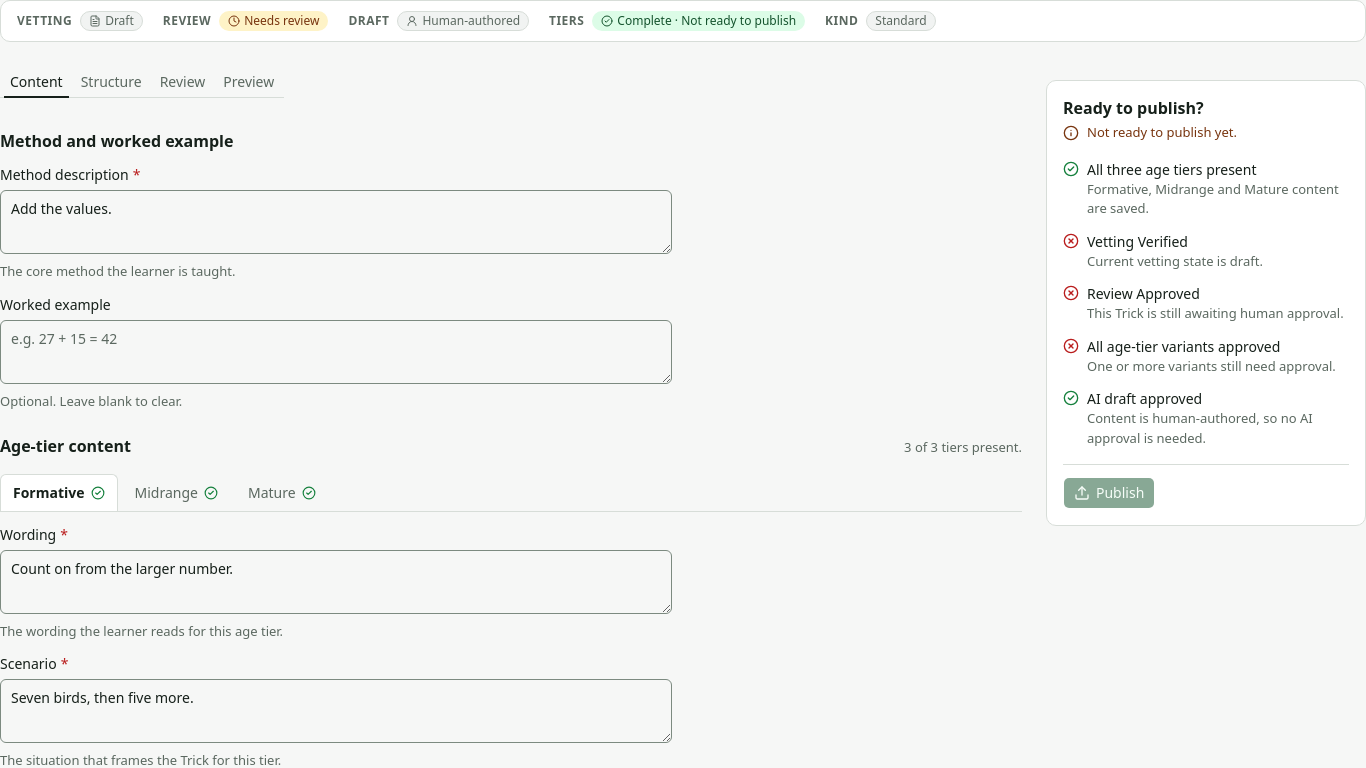
Scenario: TrickDetailView › focuses the method when only the content section is invalid
Clear the text box labelled "Method description" at (336, 222), box [0,190,672,254]
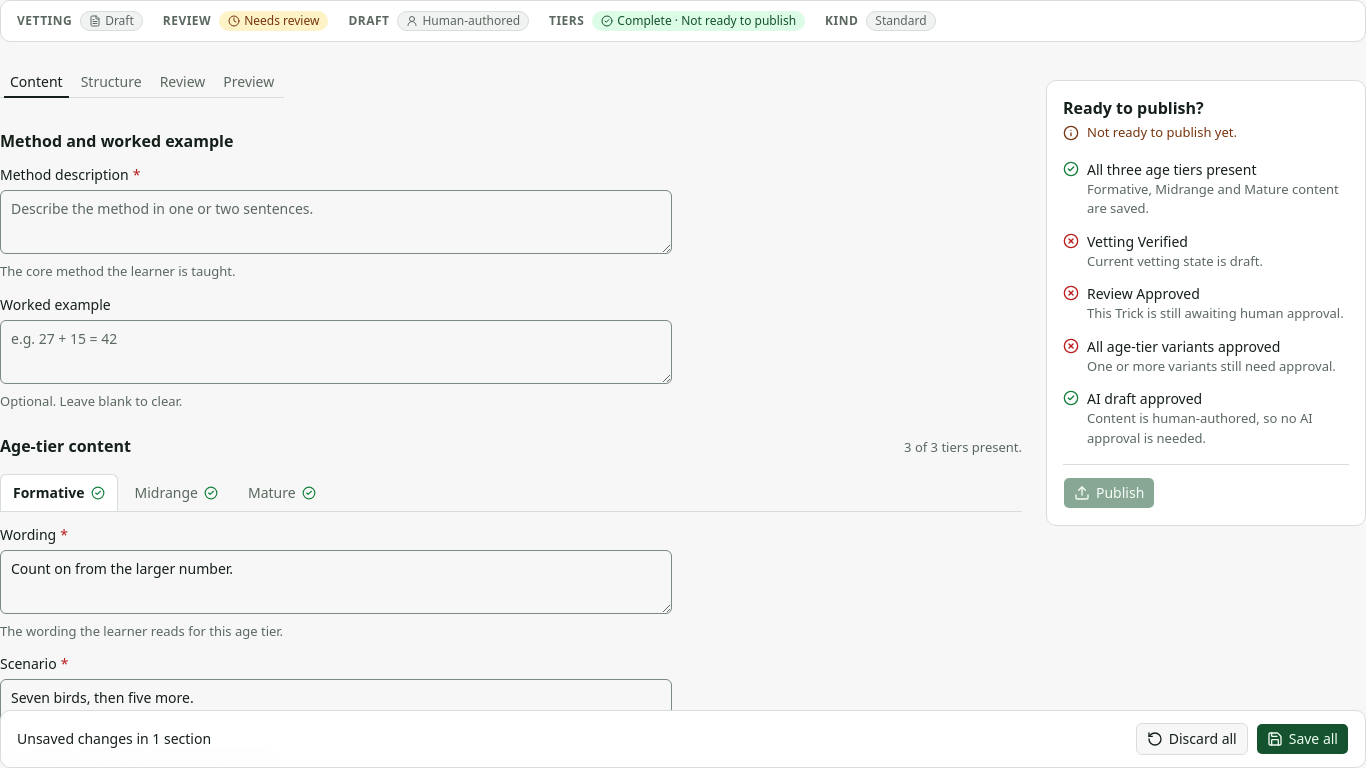
Click the button "Save all" at (1302, 739), box [1256,723,1349,755]
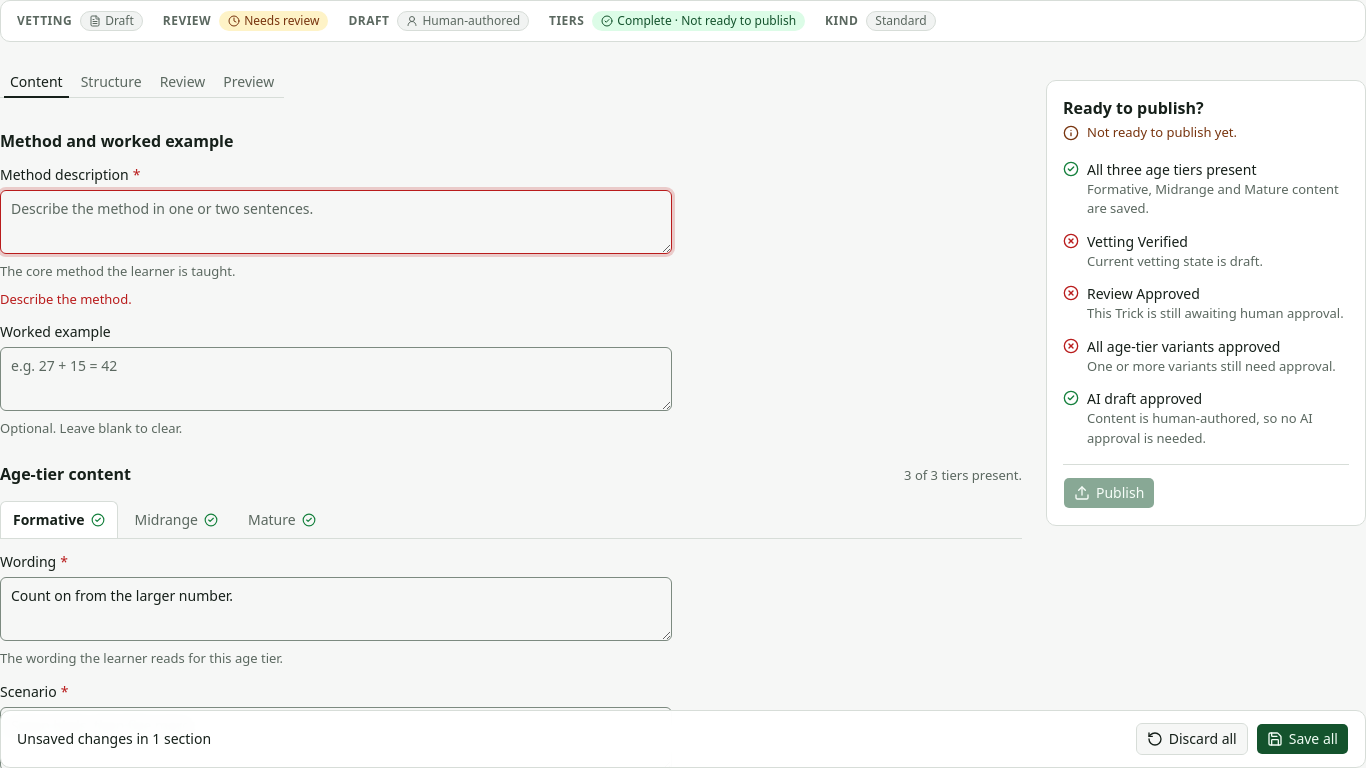
Expected: the text "Describe the method." is shown, [0,290,132,308]
